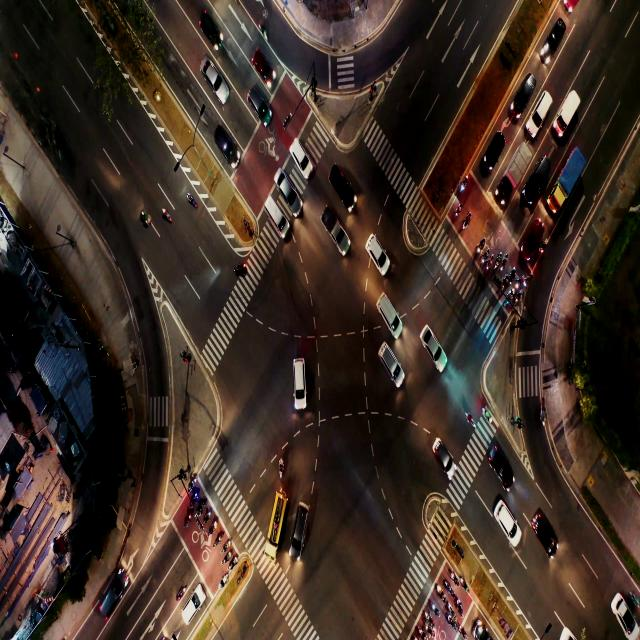bus: (274, 503, 286, 534)
car: (534, 520, 555, 546), (374, 237, 389, 271), (205, 63, 220, 95), (495, 452, 510, 483), (215, 130, 232, 154), (292, 508, 306, 536), (102, 578, 116, 606), (434, 439, 448, 467), (618, 605, 632, 633), (546, 27, 563, 49), (523, 221, 539, 244), (378, 344, 391, 372), (275, 175, 293, 194), (333, 168, 350, 188), (256, 54, 272, 75), (426, 328, 438, 356), (498, 506, 516, 524), (202, 15, 216, 38), (379, 294, 392, 317), (267, 198, 280, 220), (188, 596, 200, 616), (537, 169, 549, 189), (537, 101, 545, 126), (486, 140, 499, 155), (251, 89, 261, 107), (295, 146, 304, 163), (293, 371, 303, 386), (520, 84, 530, 98)
motorcycle: (186, 193, 198, 206), (162, 209, 174, 222), (141, 208, 149, 223), (259, 23, 267, 38), (278, 459, 284, 475), (178, 588, 186, 600), (237, 262, 246, 272), (540, 410, 546, 424), (484, 407, 490, 421), (467, 414, 474, 424), (464, 216, 470, 227), (418, 628, 425, 637), (488, 258, 493, 269), (464, 582, 469, 593), (205, 511, 211, 520), (461, 182, 467, 191), (453, 574, 458, 584), (198, 504, 204, 512), (210, 523, 216, 531), (223, 554, 228, 563), (230, 558, 235, 567), (456, 206, 461, 215), (216, 535, 222, 542), (185, 516, 190, 524), (223, 574, 228, 582), (478, 241, 483, 249), (509, 273, 513, 283), (502, 279, 506, 288), (516, 292, 519, 304), (540, 243, 544, 252), (448, 602, 452, 611), (482, 255, 487, 262), (224, 542, 228, 550), (431, 603, 437, 608), (424, 611, 428, 618), (496, 258, 499, 266), (501, 263, 505, 269), (446, 583, 450, 589), (458, 600, 461, 608), (438, 584, 441, 592), (510, 291, 513, 298), (460, 626, 463, 633), (447, 616, 452, 620), (190, 482, 193, 488), (524, 280, 527, 286), (516, 280, 518, 288), (193, 494, 196, 499), (426, 626, 429, 631)
truck: (322, 211, 340, 237), (564, 158, 578, 186), (563, 101, 573, 125), (509, 155, 518, 181)
